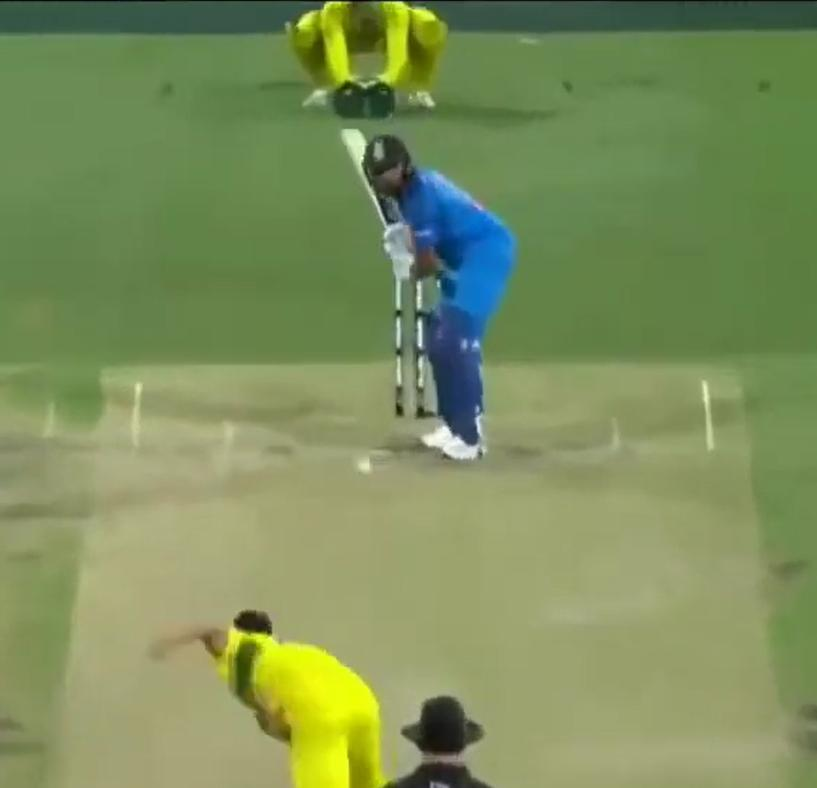batsman: (327, 103, 502, 466)
